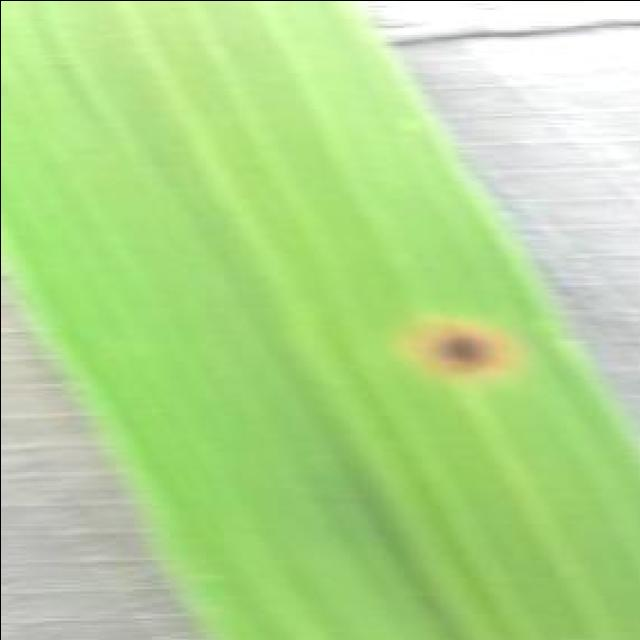Brown_Spot: (380, 292, 520, 394)
